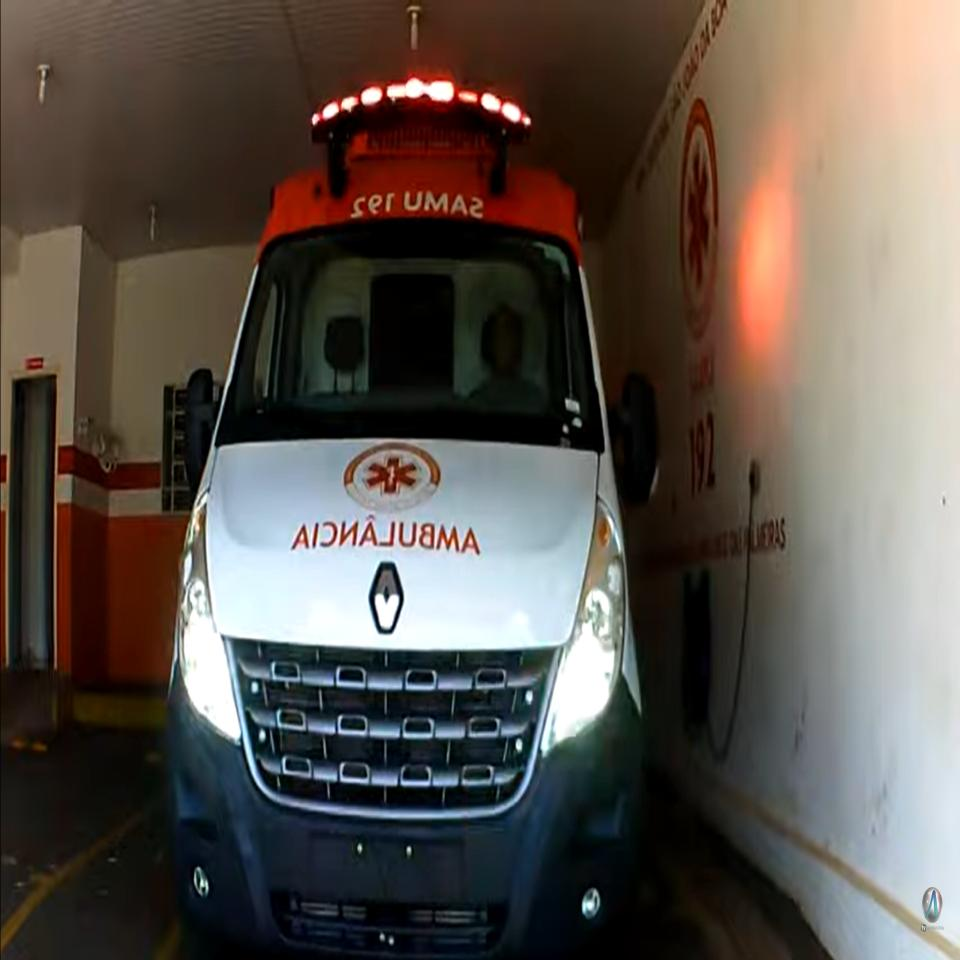bombeiro: (161, 72, 668, 960)
